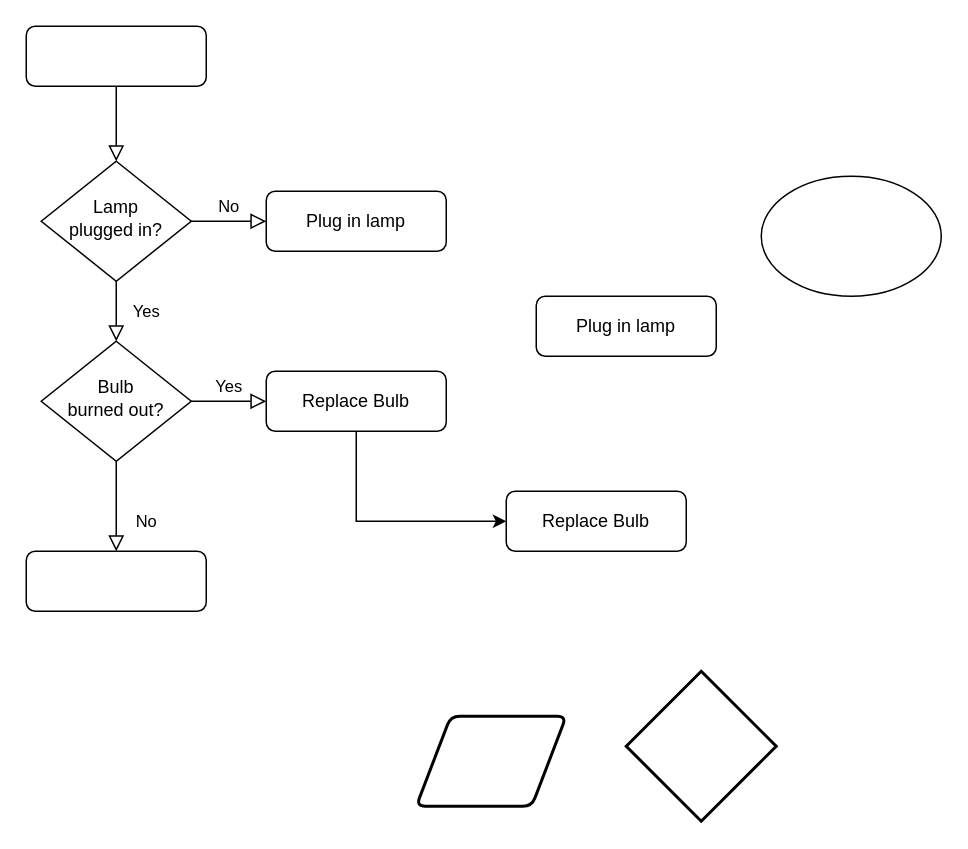
The diagram is 968 pixels wide and 849 high, and some of its shapes have lost their labels. The box of each missing label's shape, as (x1, y1, x2, y2) in pixels:
dddd: (760, 175, 941, 296)
Lamp doesn't work: (25, 25, 206, 86)
Repair Lamp: (25, 550, 206, 611)
